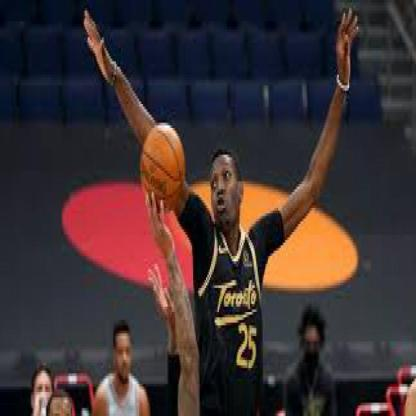basketball: (138, 122, 186, 214)
